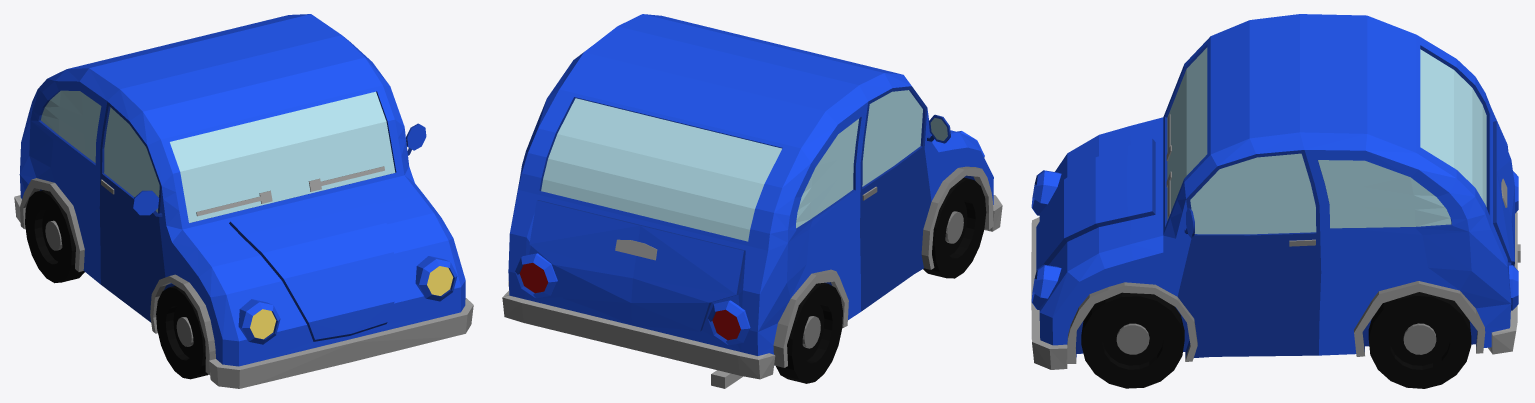
Rendered from Minicar_Model.FBX.
3 renders of one model, left to right at view 1: azimuth 30°, elevation 25°; view 2: azimuth 150°, elevation 25°; view 3: azimuth 270°, elevation 25°, orthographic. The views are drawn at different scales.
Parts seen in each view (by area): view 1: Beetle_model, Achterwielen, Voorwielen; view 2: Beetle_model, Achterwielen, Voorwielen; view 3: Beetle_model, Voorwielen, Achterwielen.
Boxes of the visible parts, bbox=[...] form: Beetle_model: bbox=[14, 14, 473, 388]; Achterwielen: bbox=[25, 190, 84, 283]; Voorwielen: bbox=[156, 286, 208, 379]; Beetle_model: bbox=[502, 14, 1002, 388]; Achterwielen: bbox=[776, 283, 842, 383]; Voorwielen: bbox=[923, 177, 986, 278]; Beetle_model: bbox=[1031, 14, 1520, 369]; Voorwielen: bbox=[1081, 292, 1184, 388]; Achterwielen: bbox=[1368, 292, 1471, 388].
Size of the model in its own units: 2303 by 3050 by 1703.
